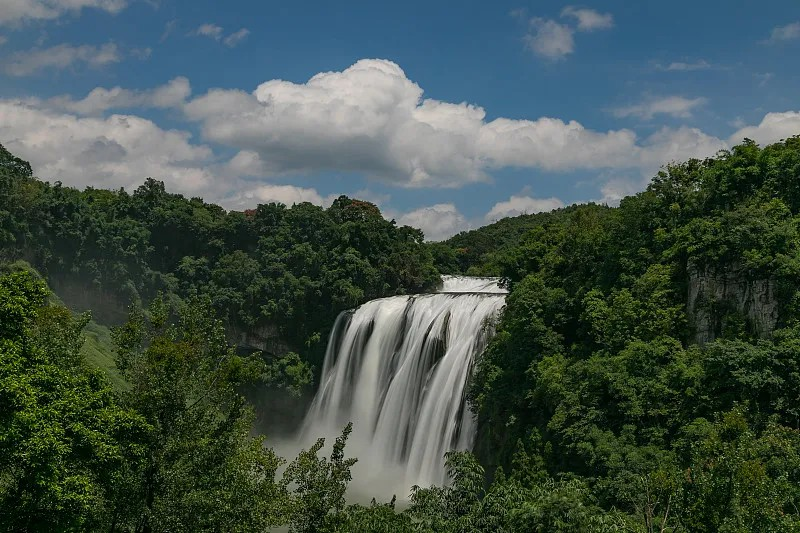Huangguoshu: (300, 276, 507, 501)
